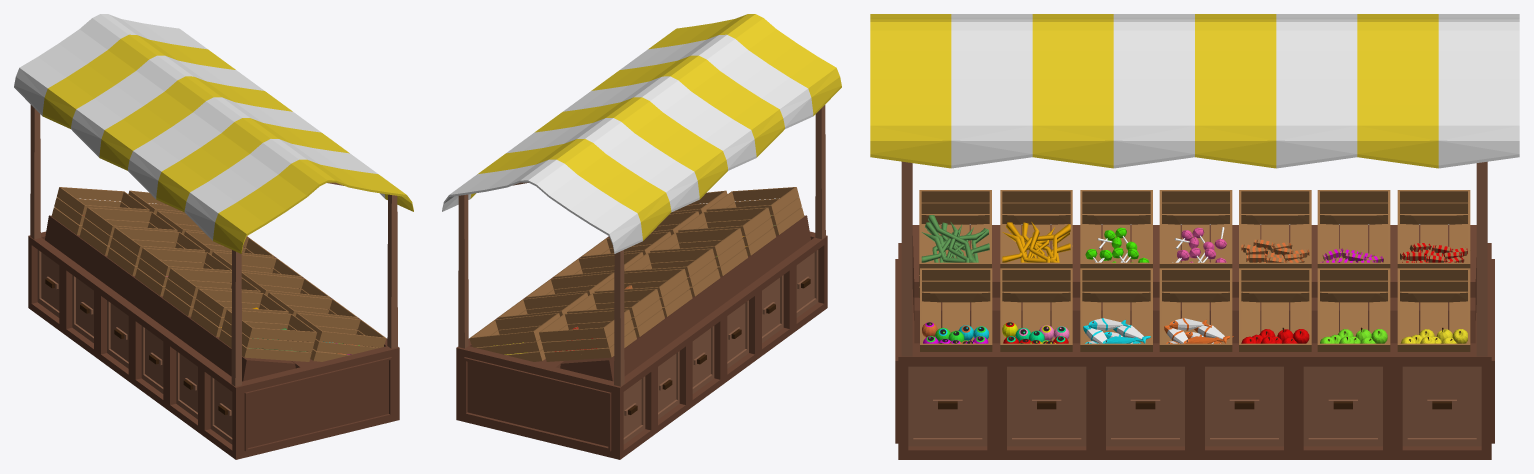
File: IngredientStandYellow.fbx
The picture shows the model from 3 angles, left to right: view 1: azimuth 30°, elevation 25°; view 2: azimuth 150°, elevation 25°; view 3: azimuth 270°, elevation 25°; orthographic projection. The views are drawn at different scales.
Parts seen in each view (by area): view 1: IngredientStand; view 2: IngredientStand; view 3: IngredientStand.
Part boxes in pixels (bbox=[...]): IngredientStand: bbox=[14, 14, 413, 459]; IngredientStand: bbox=[442, 14, 841, 459]; IngredientStand: bbox=[870, 14, 1519, 459].
Size of the model in its own units: 720 by 1065 by 1645.
